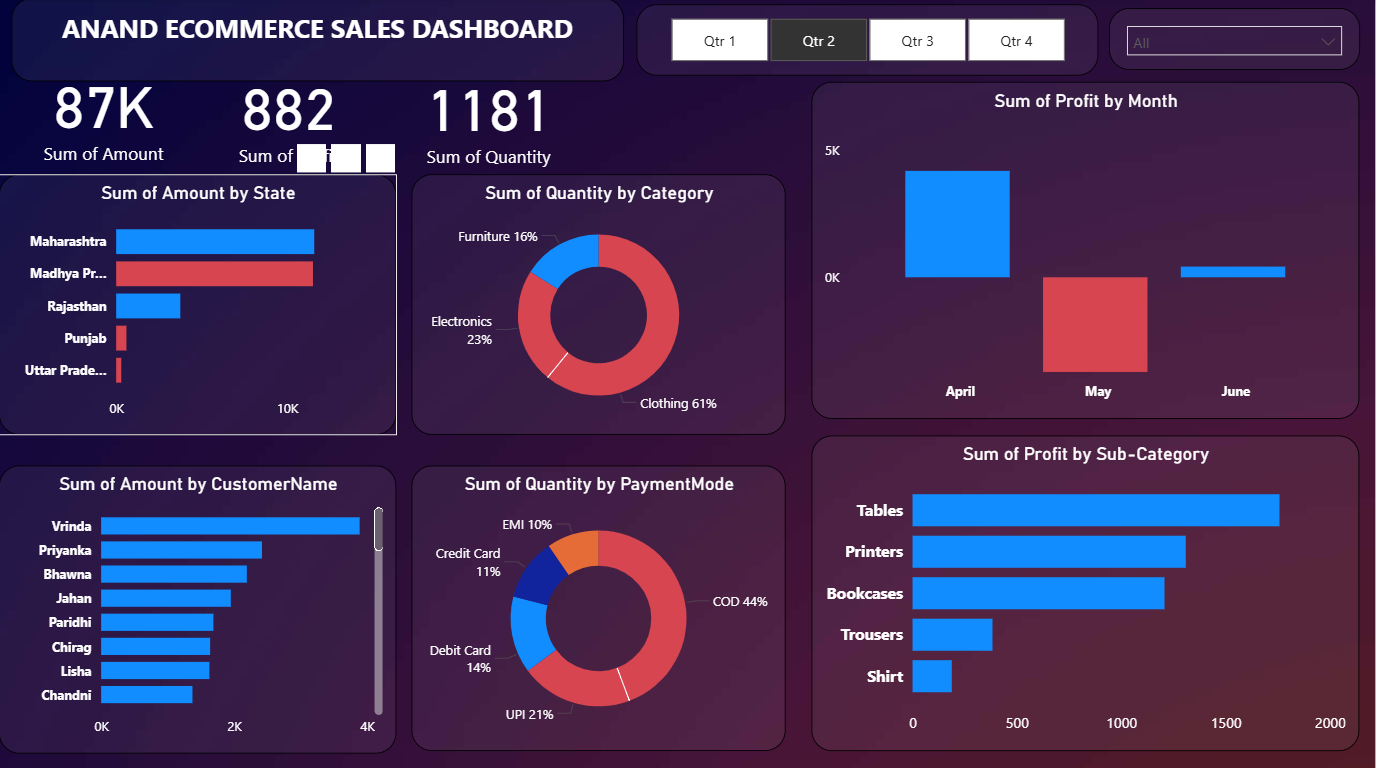

What the dashboard file says about the page in this screenshot:
{"tool":"powerbi","page":{"name":"Page 1","canvas":[1280,720],"ordinal":0},"visuals":[{"type":"textbox","box":[12,0,569.3,77.3],"z":0},{"type":"columnChart","fields":{"Y":["Details.Profit"],"Category":["Orders (2).Order Date.Variation.Date Hierarchy.Month"]},"box":[756,77.3,509.3,313.3],"z":1000},{"type":"barChart","fields":{"Category":["Details.Sub-Category"],"Y":["Details.Profit"]},"box":[756,406.7,509.3,293.3],"z":2000},{"type":"donutChart","fields":{"Y":["Details.Quantity"],"Category":["Details.PaymentMode"]},"box":[384,434.7,348,265.3],"z":3000},{"type":"donutChart","fields":{"Category":["Details.Category"],"Y":["Details.Quantity"]},"box":[384,164,348,242.7],"z":4000},{"type":"card","fields":{"Values":["Details.Amount"]},"box":[12,49.3,172,114.7],"z":5000},{"type":"card","fields":{"Values":["Details.Profit"]},"box":[184,50.7,172,113.3],"z":6000},{"type":"card","fields":{"Values":["Details.Quantity"]},"box":[369.3,52,172,113.3],"z":7000},{"type":"slicer","fields":{"Values":["Orders (2).Order Date.Variation.Date Hierarchy.Quarter"]},"box":[593.3,5.3,429.3,66.7],"z":8000},{"type":"barChart","fields":{"Category":["Orders (2).State"],"Y":["Details.Amount"]},"box":[0,164,369.3,242.7],"z":9000},{"type":"barChart","fields":{"Category":["Orders (2).CustomerName"],"Y":["Details.Amount"]},"box":[0,434.7,369.3,268],"z":10000},{"type":"slicer","fields":{"Values":["Orders (2).State"]},"box":[1032,9.3,233.3,57.3],"z":11000}]}

Visuals, with their boxes in screenshot pixels (x1, y1, x2, y2), scaled from the page's 1280x720 canvas onto the 1376x768 screenshot:
textbox: {"left": 13, "top": 0, "right": 625, "bottom": 82}
columnChart - Details.Profit x Orders (2).Order Date.Variation.Date Hierarchy.Month: {"left": 813, "top": 82, "right": 1360, "bottom": 417}
barChart - Details.Sub-Category x Details.Profit: {"left": 813, "top": 434, "right": 1360, "bottom": 747}
donutChart - Details.Quantity x Details.PaymentMode: {"left": 413, "top": 464, "right": 787, "bottom": 747}
donutChart - Details.Category x Details.Quantity: {"left": 413, "top": 175, "right": 787, "bottom": 434}
card - Details.Amount: {"left": 13, "top": 53, "right": 198, "bottom": 175}
card - Details.Profit: {"left": 198, "top": 54, "right": 383, "bottom": 175}
card - Details.Quantity: {"left": 397, "top": 55, "right": 582, "bottom": 176}
slicer - Orders (2).Order Date.Variation.Date Hierarchy.Quarter: {"left": 638, "top": 6, "right": 1099, "bottom": 77}
barChart - Orders (2).State x Details.Amount: {"left": 0, "top": 175, "right": 397, "bottom": 434}
barChart - Orders (2).CustomerName x Details.Amount: {"left": 0, "top": 464, "right": 397, "bottom": 750}
slicer - Orders (2).State: {"left": 1109, "top": 10, "right": 1360, "bottom": 71}
